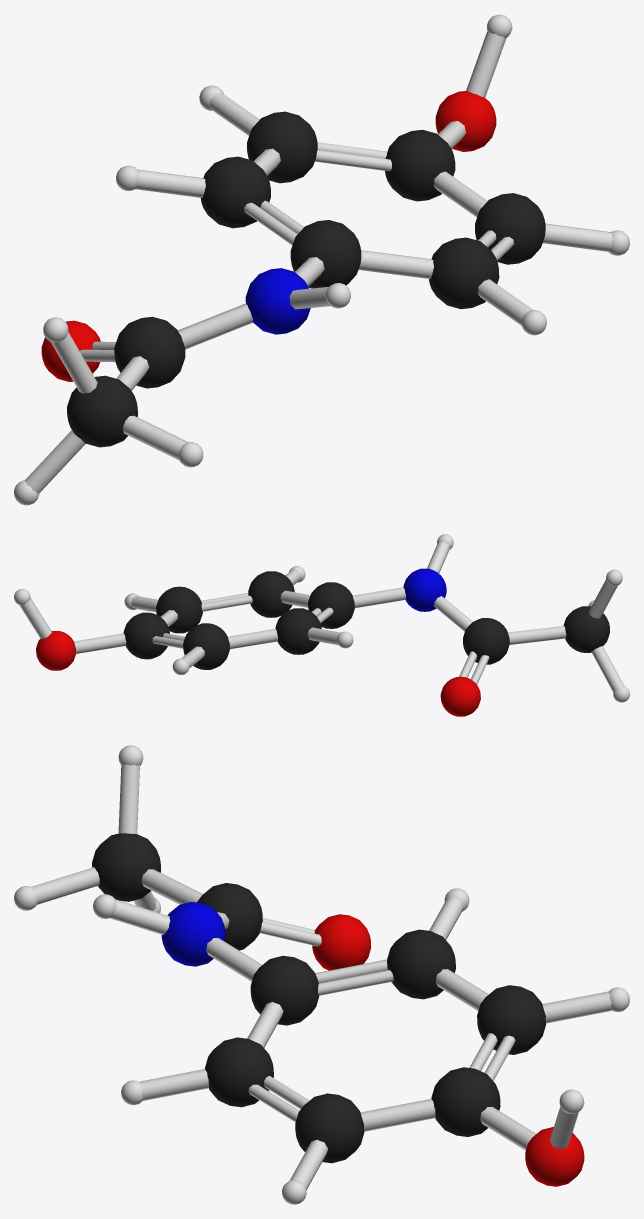
File: Paracetamole.fbx
3 renders of one model, top to bottom at view 1: azimuth 30°, elevation 25°; view 2: azimuth 150°, elevation 25°; view 3: azimuth 270°, elevation 25°, orthographic. The views are drawn at different scales.
Visible parts, largest first — view 1: Group11, Group8, Group6, Group4, Group2, Group7, Group10, Group5, Group1, Group9, Group21, Group35 (+13 smaller); view 2: Group2, Group4, Group8, Group6, Group11, Group7, Group5, Group10, Group1, Group3, Group9, Group24 (+13 smaller); view 3: Group8, Group6, Group11, Group10, Group5, Group7, Group4, Group1, Group3, Group2, Group9, Group32 (+17 smaller).
Boxes of the visible parts, <box> form: Group11: <box>429,237,499,309</box>; Group8: <box>385,129,455,201</box>; Group6: <box>200,156,270,228</box>; Group4: <box>67,375,137,447</box>; Group2: <box>114,316,185,388</box>; Group7: <box>247,111,317,183</box>; Group10: <box>475,193,545,264</box>; Group5: <box>290,220,361,288</box>; Group1: <box>245,268,310,334</box>; Group9: <box>435,90,496,151</box>; Group21: <box>178,303,252,349</box>; Group35: <box>358,250,433,278</box>; Group2: <box>463,618,509,664</box>; Group4: <box>563,606,609,652</box>; Group8: <box>123,612,169,659</box>; Group6: <box>275,608,321,654</box>; Group11: <box>248,571,294,617</box>; Group7: <box>183,623,229,669</box>; Group5: <box>308,582,354,628</box>; Group10: <box>156,586,202,633</box>; Group1: <box>403,568,446,611</box>; Group3: <box>440,676,480,716</box>; Group9: <box>36,631,75,670</box>; Group24: <box>508,626,566,644</box>; Group8: <box>431,1067,500,1136</box>; Group6: <box>387,929,455,999</box>; Group11: <box>205,1037,273,1107</box>; Group10: <box>295,1093,364,1163</box>; Group5: <box>250,955,319,1025</box>; Group7: <box>477,985,545,1054</box>; Group4: <box>92,833,160,901</box>; Group1: <box>161,902,225,966</box>; Group3: <box>312,914,371,970</box>; Group2: <box>197,883,262,950</box>; Group9: <box>525,1127,584,1186</box>; Group32: <box>360,1098,435,1131</box>.
Size of the model in its own units: 627 by 158 by 483.
